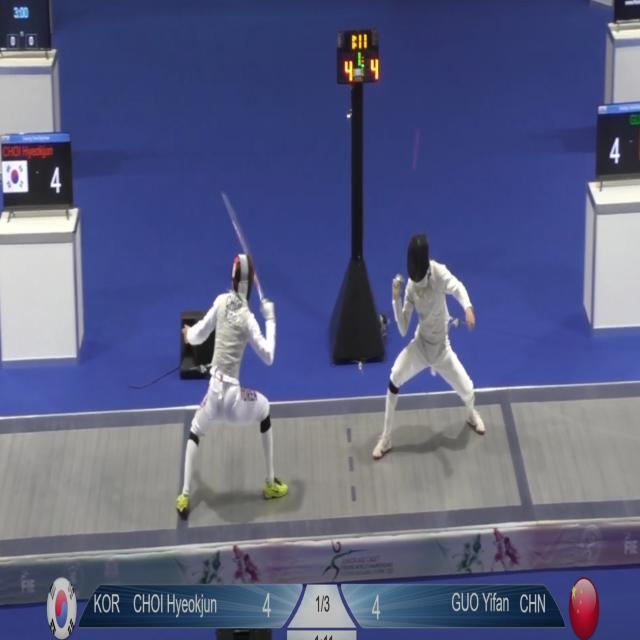fencer: (180, 249, 296, 528), (371, 225, 494, 458)
overlayLeft: (80, 585, 251, 626)
overlayRight: (393, 583, 564, 629)
scoreLeft: (253, 587, 307, 629)
scoreRight: (331, 586, 390, 629)
